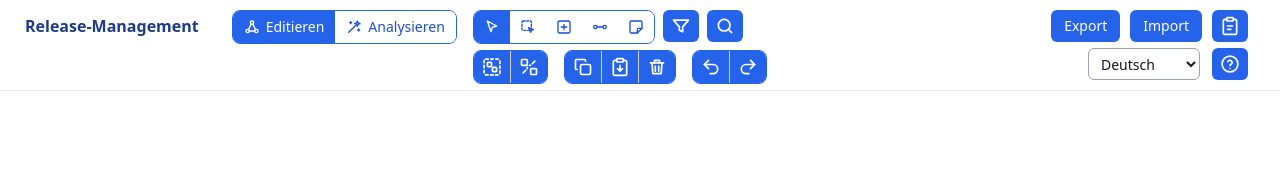
Test case: Toolbar › tool switch › names the shortcut in the tooltips
This screenshot has width=1280, height=185.
Hover over the button named "Objekt anlegen" at x=564, y=27, box [546, 11, 582, 43]
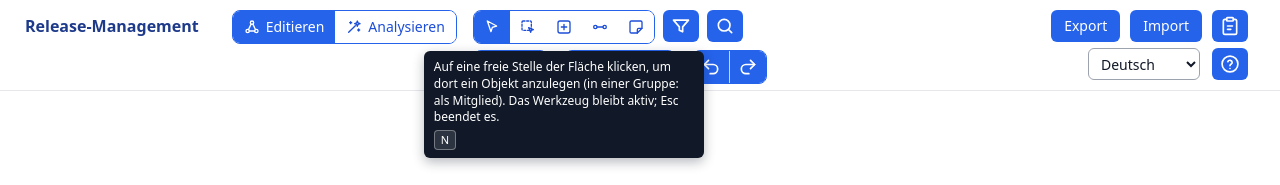
expect the tooltip shows "freie Stelle": met, box [434, 58, 679, 125]
expect the tooltip shows "n": met, box [441, 132, 449, 147]
